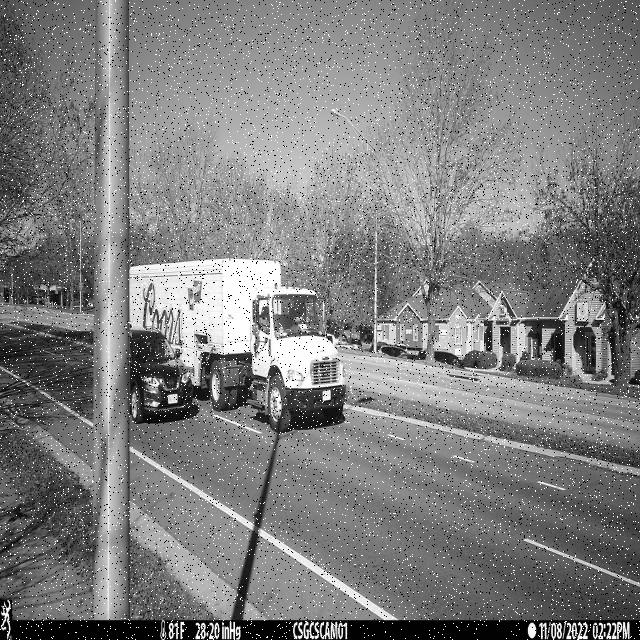Tractor Trailer: (130, 258, 347, 433)
